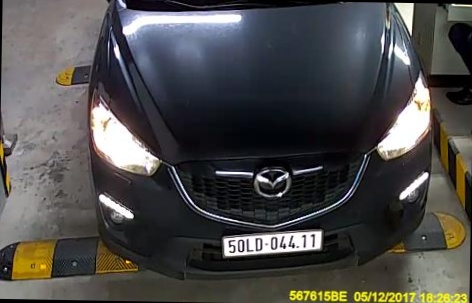plate: (218, 226, 327, 259)
